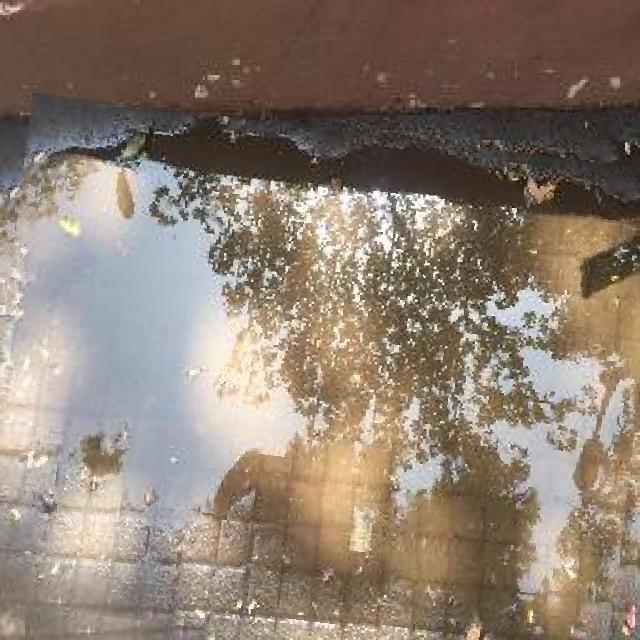puddle: (1, 111, 640, 640)
